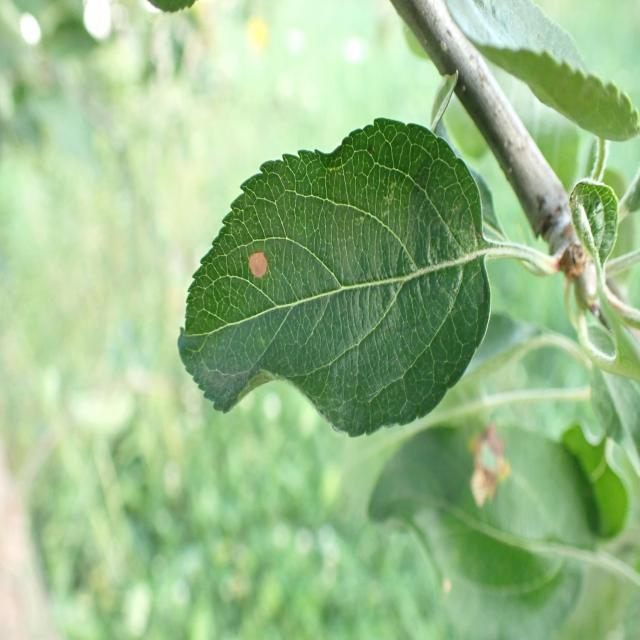frog-eye-leaf-spot: (177, 116, 492, 438)
